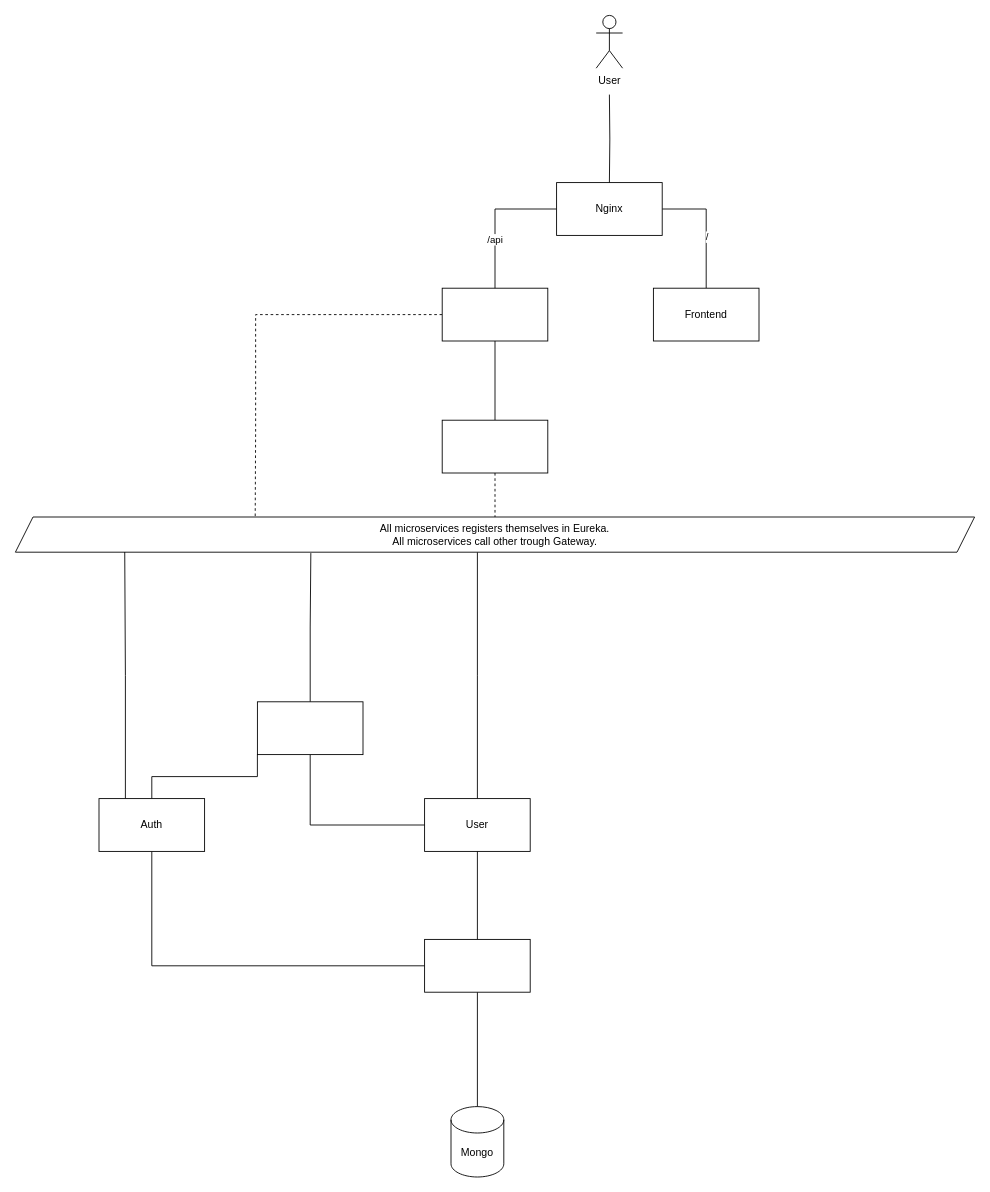
This 990x1192 diagram has some shape labels left out. Each missing label, with the centre of its shape:
Eureka: point 494,446
Gateway: point 494,314
NotificationChannel: point 310,728
UserRepository: point 477,965
